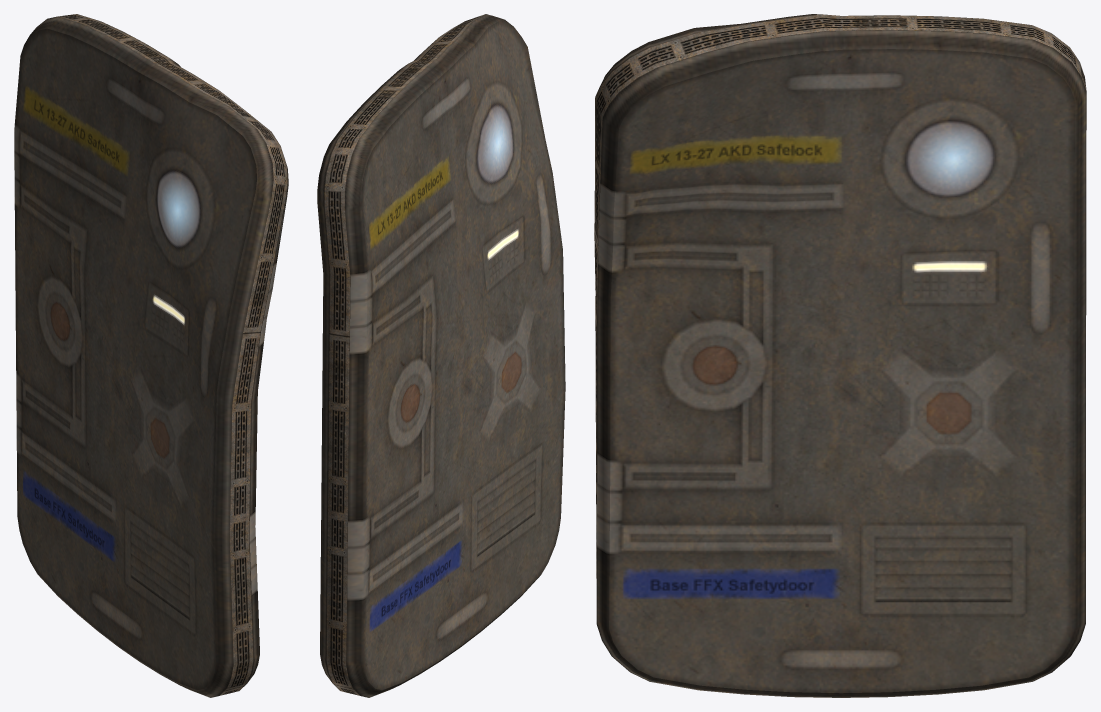
File: door_inner_broken.fbx
3 renders of one model, left to right at view 1: azimuth 30°, elevation 25°; view 2: azimuth 150°, elevation 25°; view 3: azimuth 270°, elevation 25°, orthographic. The views are drawn at different scales.
Parts seen in each view (by area): view 1: Mesh; view 2: Mesh; view 3: Mesh.
Part boxes in pixels (x1,y1,x2,y2): Mesh: (14, 14, 288, 697); Mesh: (317, 14, 565, 697); Mesh: (594, 14, 1086, 697).
Bounding box in the file's own units: 20.73 × 136 × 88.42.
